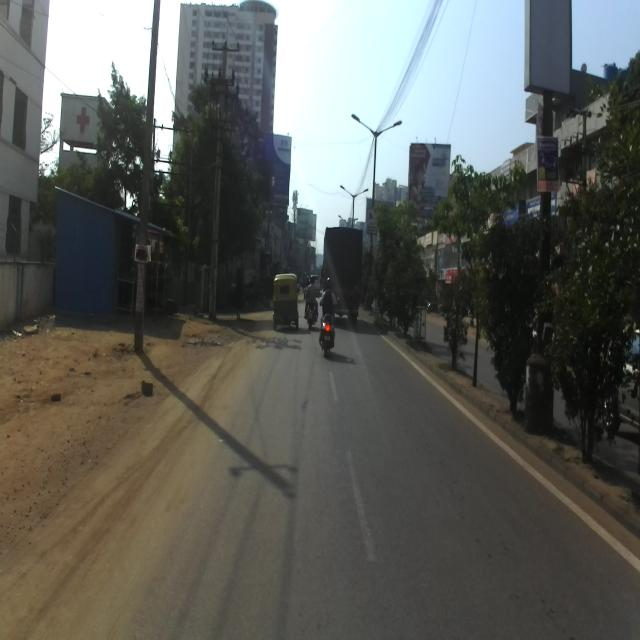auto ahead at: (271, 265, 304, 335)
electric pole ahead at: (131, 0, 168, 337)
